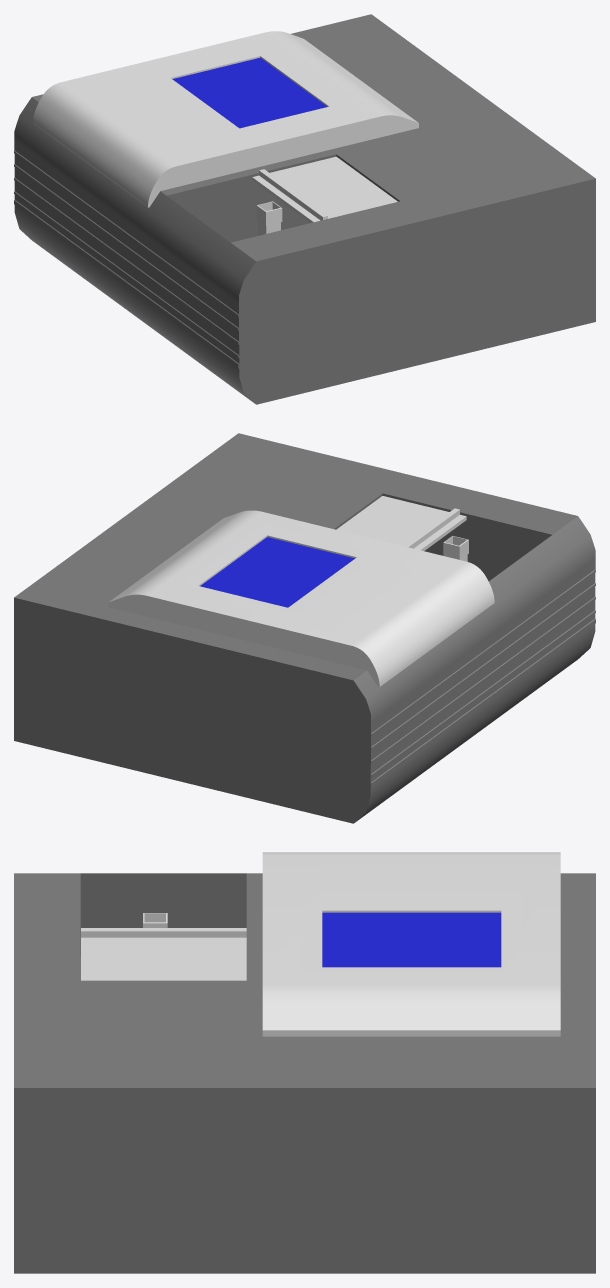
File: box full.fbx
The picture shows the model from 3 angles, top to bottom: view 1: azimuth 30°, elevation 25°; view 2: azimuth 150°, elevation 25°; view 3: azimuth 270°, elevation 25°; orthographic projection. The views are drawn at different scales.
Parts seen in each view (by area): view 1: Box001 (×2), Box002, Box004; view 2: Box001 (×2), Box002, Box004; view 3: Box001, Box002, Box004.
Boxes of the visible parts, bbox=[...] form: Box001 (×2): bbox=[14, 14, 595, 404]; Box002: bbox=[33, 31, 418, 207]; Box004: bbox=[252, 156, 397, 223]; Box001 (×2): bbox=[14, 433, 595, 823]; Box002: bbox=[108, 510, 494, 686]; Box004: bbox=[336, 496, 466, 550]; Box001: bbox=[14, 873, 595, 1273]; Box002: bbox=[262, 852, 560, 1036]; Box004: bbox=[81, 928, 246, 980].
Size of the model in its own units: 116 by 50.77 by 126.
